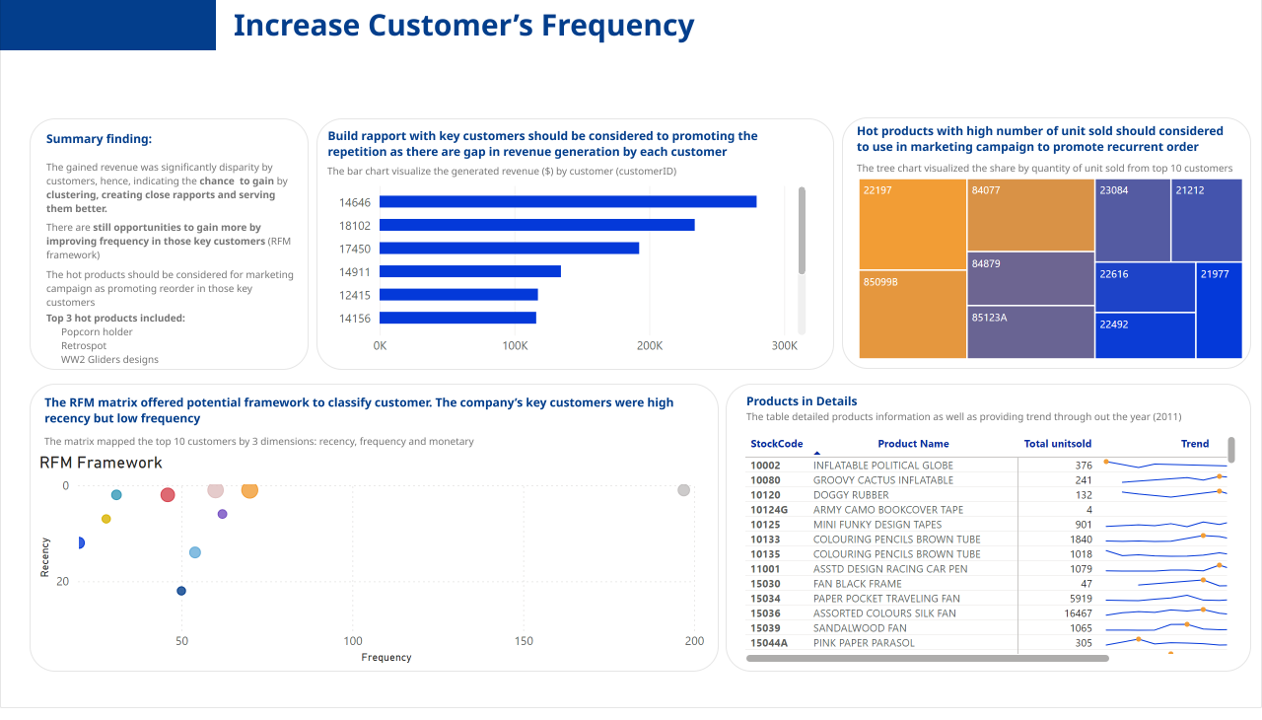

This screenshot's page, from the dashboard's own definition file:
{"tool":"powerbi","page":{"name":"Storytelling_recurrent","canvas":[1280,720],"ordinal":2},"visuals":[{"type":"barChart","title":"Total Revenue by Customer","fields":{"Y":["Online Retail.Total Revenue"],"Category":["Online Retail.CustomerID"]},"box":[335.5,176.4,487.3,192.7],"z":0},{"type":"scatterChart","title":"RFM Framework","fields":{"X":["RFM.Frequency"],"Y":["RFM.Recency"],"Size":["Sum(RFM.Monetary)"],"Series":["RFM.CustomerID"]},"box":[35,459,684,218],"z":1000},{"type":"treemap","title":"Total Unit-solds by StockCode","fields":{"Group":["Online Retail.StockCode"],"Values":["Date.Total unitsold"]},"box":[866.5,176.5,399.4,192.9],"z":2000},{"type":"pivotTable","fields":{"Values":["Date.Total unitsold","SparklineData(Sum(Online Retail.Quantity)_[Date.Month])"],"Rows":["Online Retail.StockCode","Product_Name.Product Name"]},"box":[750.9,437.3,507.3,240],"z":3000}]}

Visuals, with their boxes in screenshot pixels (x1, y1, x2, y2), scaled from the page's 1280x720 canvas onto the 1262x720 screenshot:
"Total Revenue by Customer" barChart: 331, 176, 811, 369
"RFM Framework" scatterChart: 35, 459, 709, 677
"Total Unit-solds by StockCode" treemap: 854, 176, 1248, 369
pivotTable - Date.Total unitsold x SparklineData(Sum(Online Retail.Quantity)_[Date.Month]): 740, 437, 1241, 677
